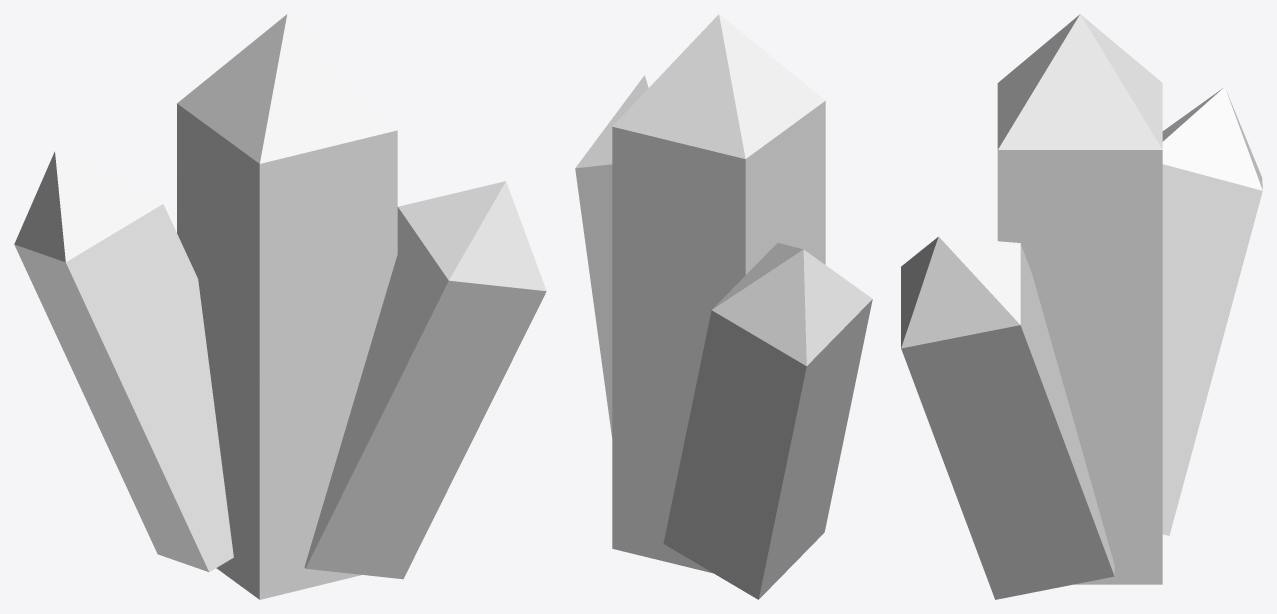
File: crystalshard_3.obj
3 renders of one model, left to right at view 1: azimuth 30°, elevation 25°; view 2: azimuth 150°, elevation 25°; view 3: azimuth 270°, elevation 25°, orthographic. The views are drawn at different scales.
Parts seen in each view (by area): view 1: Crystal_Cube.000, Crystal_Cube.001, Crystal_Cube.002; view 2: Crystal_Cube.000, Crystal_Cube.002, Crystal_Cube.001; view 3: Crystal_Cube.000, Crystal_Cube.001, Crystal_Cube.002.
Boxes of the visible parts, bbox=[...] form: Crystal_Cube.000: bbox=[177, 14, 397, 599]; Crystal_Cube.001: bbox=[304, 181, 546, 579]; Crystal_Cube.002: bbox=[14, 151, 233, 572]; Crystal_Cube.000: bbox=[612, 14, 825, 573]; Crystal_Cube.002: bbox=[663, 243, 872, 599]; Crystal_Cube.001: bbox=[575, 75, 653, 438]; Crystal_Cube.000: bbox=[997, 14, 1162, 584]; Crystal_Cube.001: bbox=[901, 236, 1114, 599]; Crystal_Cube.002: bbox=[1162, 87, 1262, 535].
Bounding box in the file's own units: 0.6482 × 0.9272 × 0.5524.
